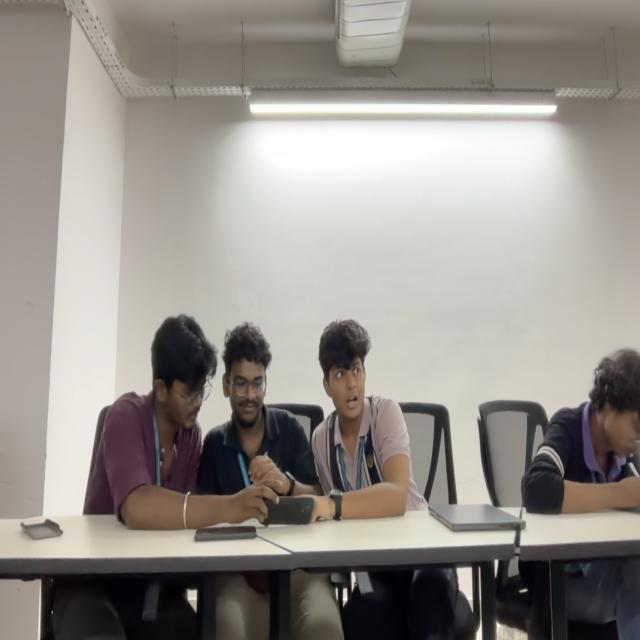Isolated: (523, 348, 640, 517)
socializing: (85, 314, 428, 519)
